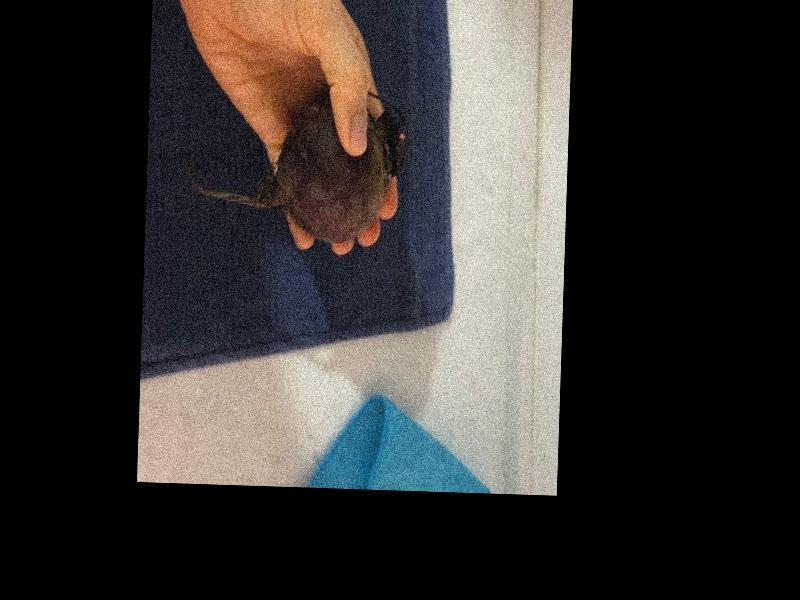Beet: (189, 84, 409, 244)
